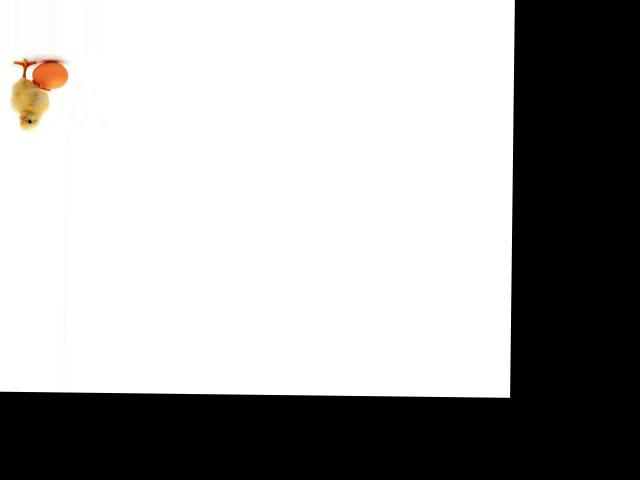egg: (31, 61, 68, 89)
